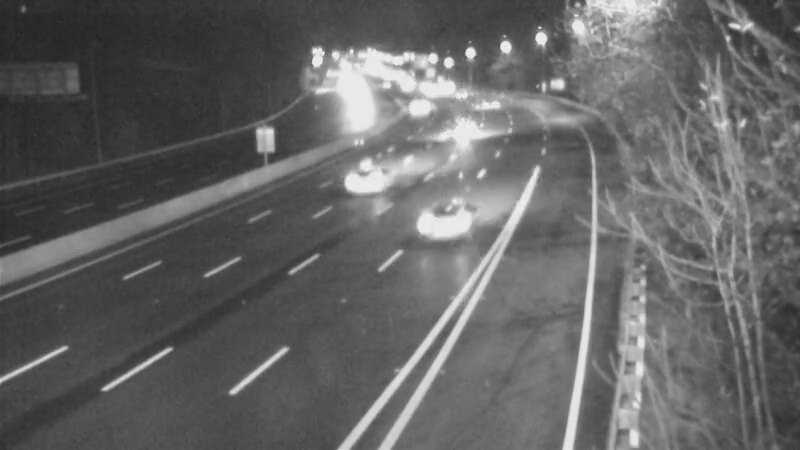vehicle: (327, 138, 407, 218), (404, 177, 484, 257), (436, 66, 486, 116), (391, 80, 441, 130), (458, 82, 508, 132), (428, 105, 478, 155), (333, 84, 383, 134)
